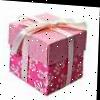cube: (6, 10, 88, 95)
